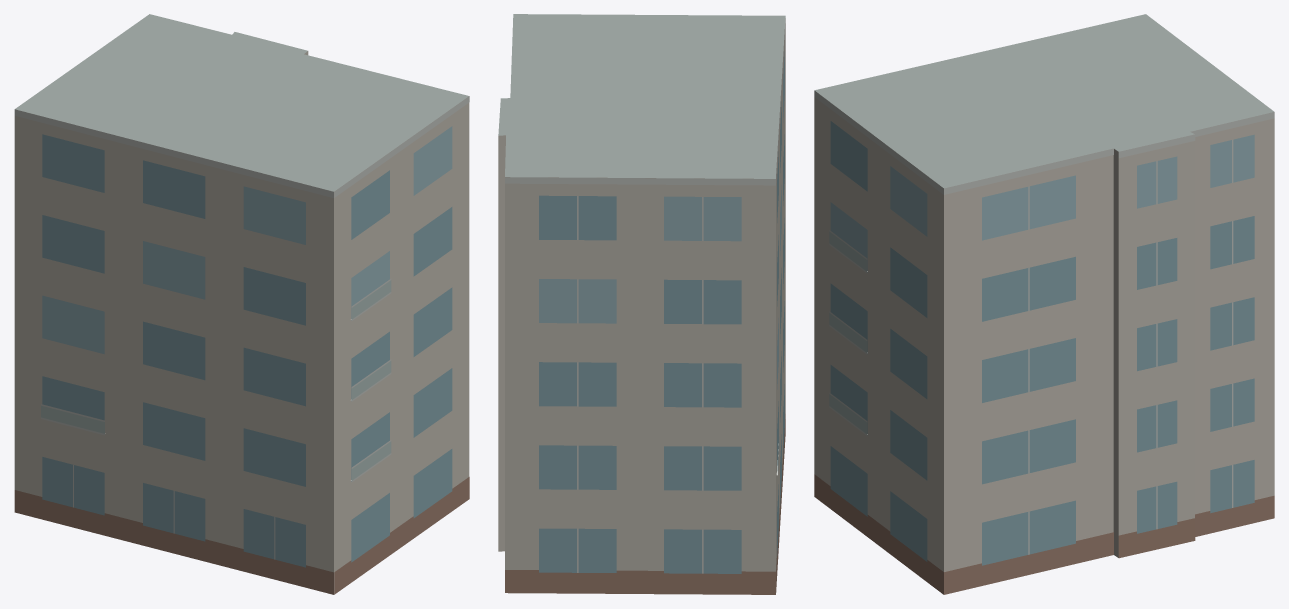
File: survey-upis-32874519.glb
3 renders of one model, left to right at view 1: azimuth 30°, elevation 25°; view 2: azimuth 150°, elevation 25°; view 3: azimuth 270°, elevation 25°, orthographic. The views are drawn at different scales.
Parts seen in each view (by area): view 1: survey-upis-32874519.tmp; view 2: survey-upis-32874519.tmp; view 3: survey-upis-32874519.tmp.
Boxes of the visible parts, box(x1,y1,x2,y2) form: survey-upis-32874519.tmp: box(14, 14, 469, 594); survey-upis-32874519.tmp: box(498, 14, 785, 594); survey-upis-32874519.tmp: box(814, 14, 1274, 594).
Size of the model in its own units: 14.09 by 15.3 by 15.71.
